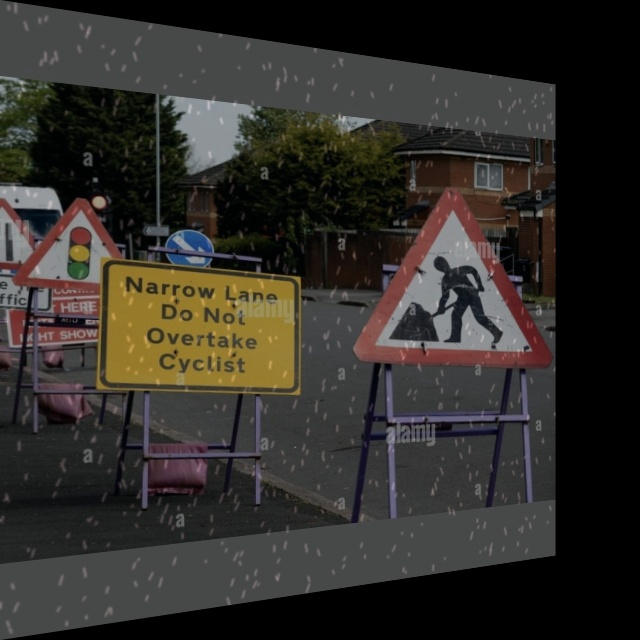Men_at_Work: (353, 166, 550, 376)
